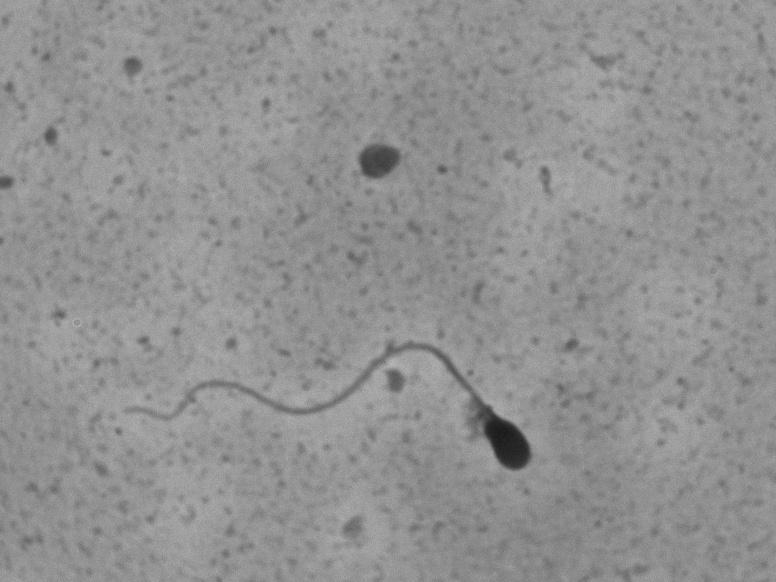Abnormal: (107, 275, 571, 530)
